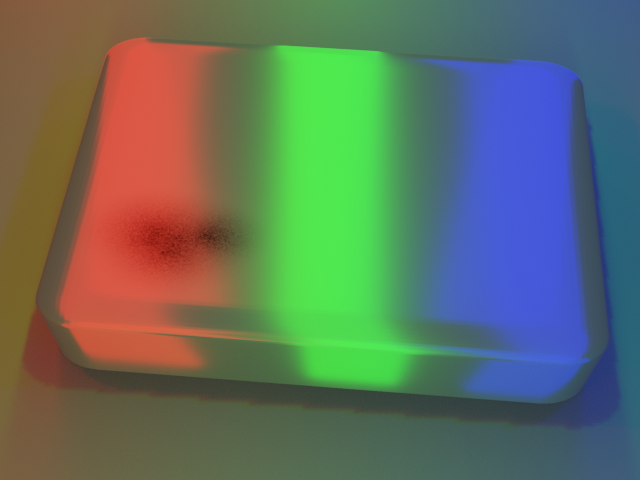stain: (32, 166, 287, 318)
